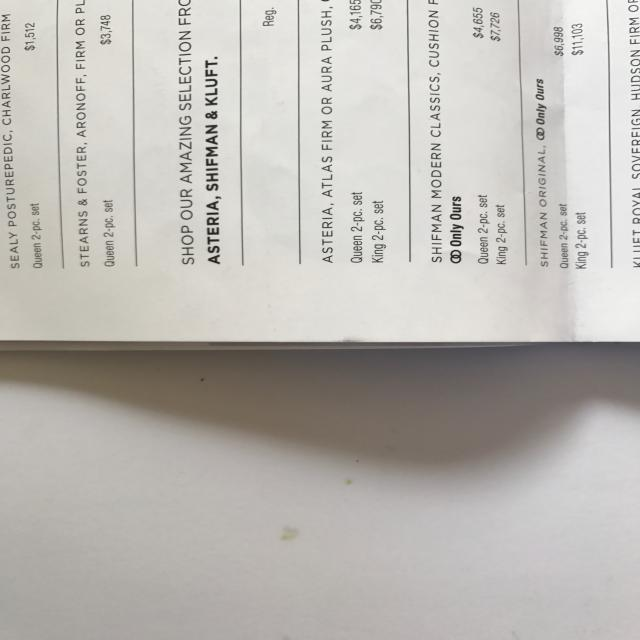paper: (1, 0, 639, 345)
